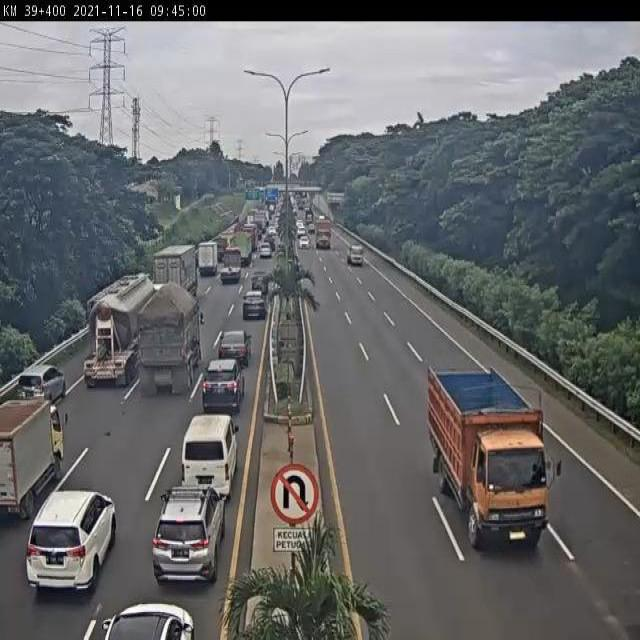car: (152, 488, 225, 581), (200, 361, 244, 415), (215, 333, 248, 368), (241, 292, 268, 325), (248, 276, 266, 301)
small bus: (179, 420, 237, 497)
truck-l-: (139, 286, 199, 398), (151, 246, 200, 310)
truck-m-: (425, 363, 549, 552), (218, 248, 246, 287), (196, 243, 218, 280)
truck-xl-: (81, 276, 159, 392)
